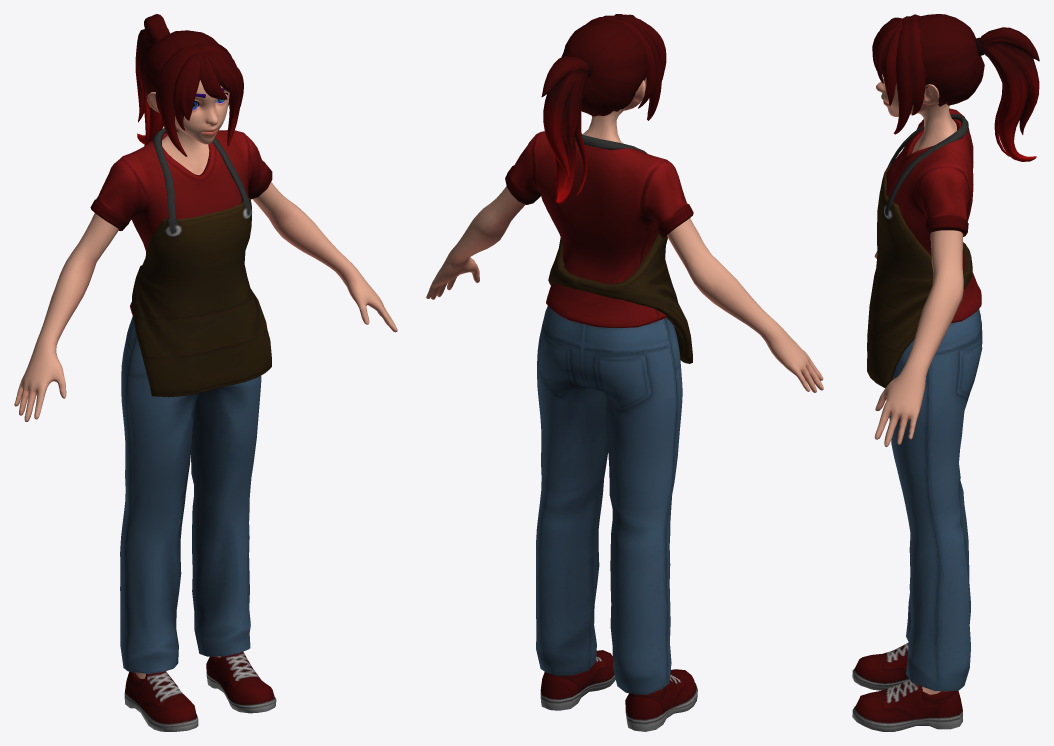
Rendered from Crosline_Barista_Mesh.obj.
3 views of the same model, side by side, from view 1: azimuth 30°, elevation 25°; view 2: azimuth 150°, elevation 25°; view 3: azimuth 270°, elevation 25° (orthographic). The views are drawn at different scales.
Visible parts, largest first — view 1: Crosline_Barista_Mesh_0; view 2: Crosline_Barista_Mesh_0; view 3: Crosline_Barista_Mesh_0.
Part boxes in pixels (left/top/right/bottom): Crosline_Barista_Mesh_0: left=14, top=14, right=397, bottom=731; Crosline_Barista_Mesh_0: left=426, top=14, right=823, bottom=731; Crosline_Barista_Mesh_0: left=852, top=14, right=1039, bottom=731.
Size of the model in its own units: 1.06 by 1.8 by 0.4451.
1 material, 1 textured.
